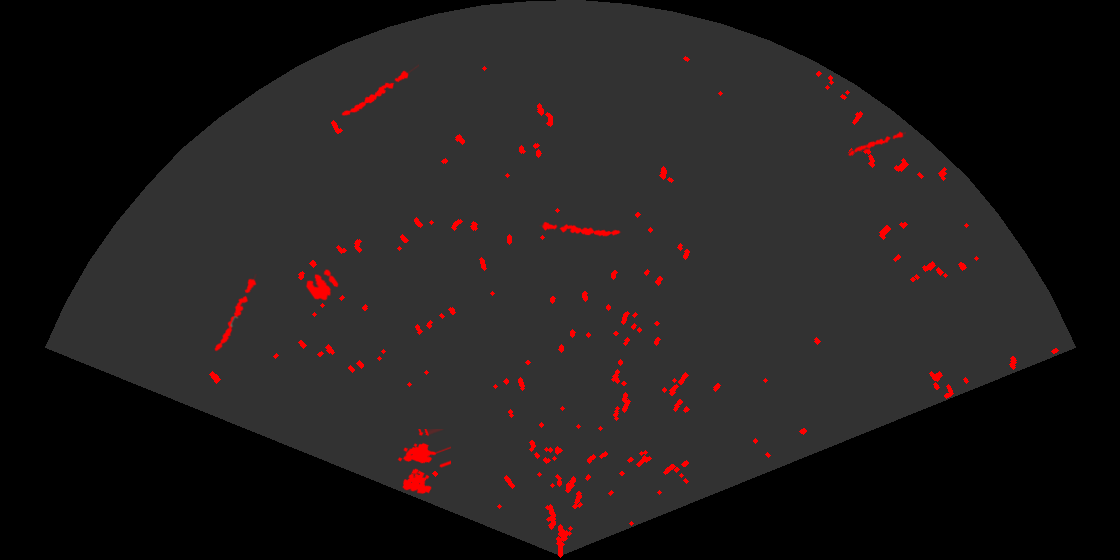ball: (304, 268, 340, 302)
cage: (396, 429, 451, 496)
chain: (340, 64, 419, 117), (213, 274, 258, 353), (846, 130, 906, 158), (539, 220, 622, 238)
